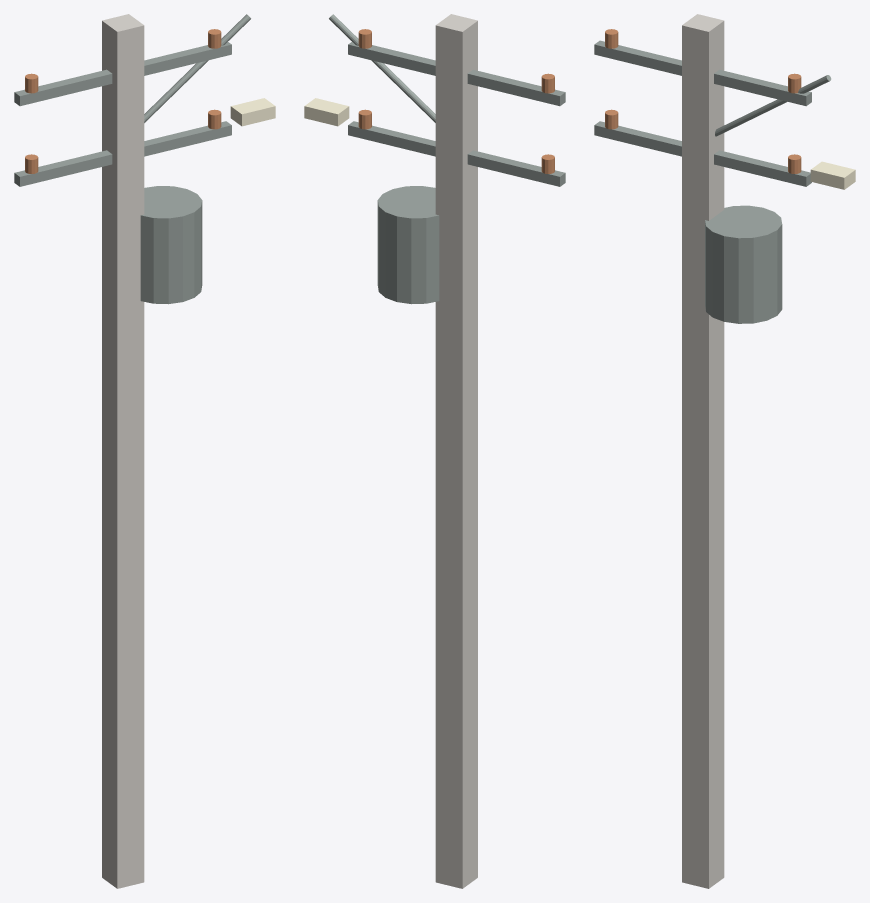
Rendered from UtilityPole.fbx.
3 renders of one model, left to right at view 1: azimuth 30°, elevation 25°; view 2: azimuth 150°, elevation 25°; view 3: azimuth 330°, elevation 25°, orthographic.
Visible parts, largest first — view 1: CSVS_UtilityPole_Transformer; view 2: CSVS_UtilityPole_Transformer; view 3: CSVS_UtilityPole_Transformer.
Boxes of the visible parts, box(x1,y1,x2,y2) form: CSVS_UtilityPole_Transformer: box(14, 14, 275, 888); CSVS_UtilityPole_Transformer: box(304, 14, 565, 888); CSVS_UtilityPole_Transformer: box(594, 14, 855, 888).
Size of the model in its own units: 2.62 by 8.5 by 0.7.
